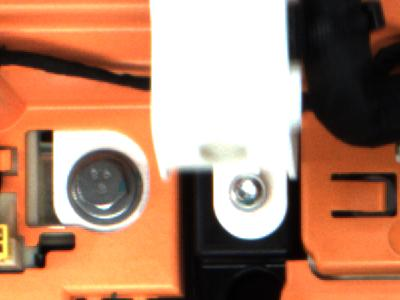nut_b: (60, 144, 151, 228)
